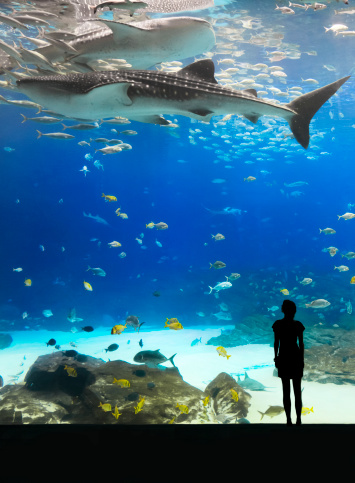em pe: (263, 282, 310, 419)
